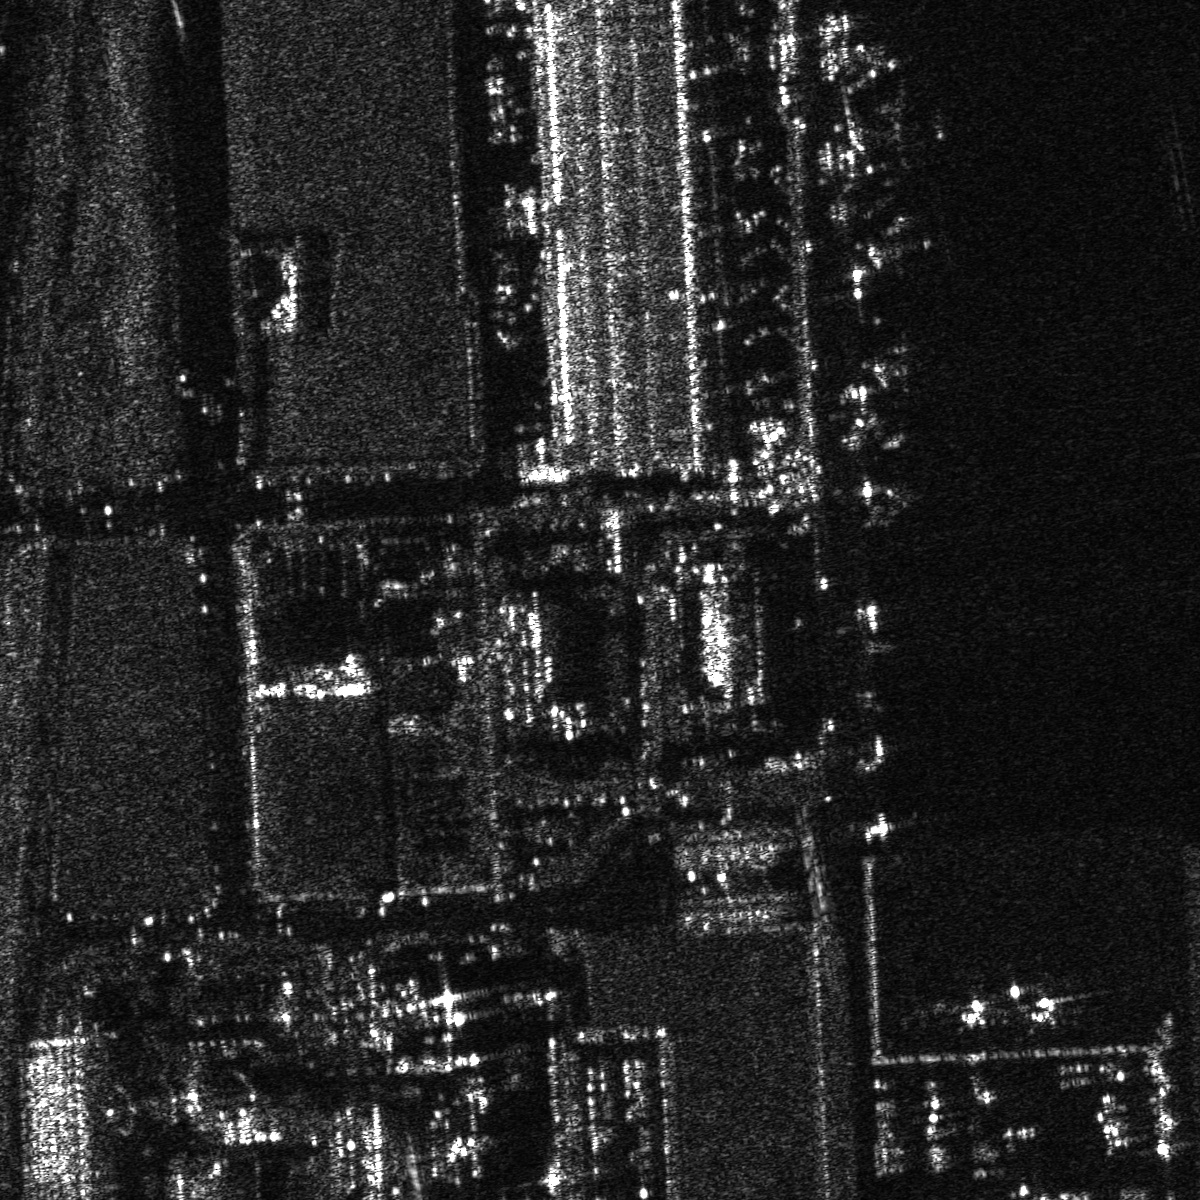A220: (845, 86, 952, 173)
ARJ21: (942, 979, 1007, 1036)
other: (847, 205, 938, 273), (857, 327, 938, 393), (1012, 982, 1084, 1034)
